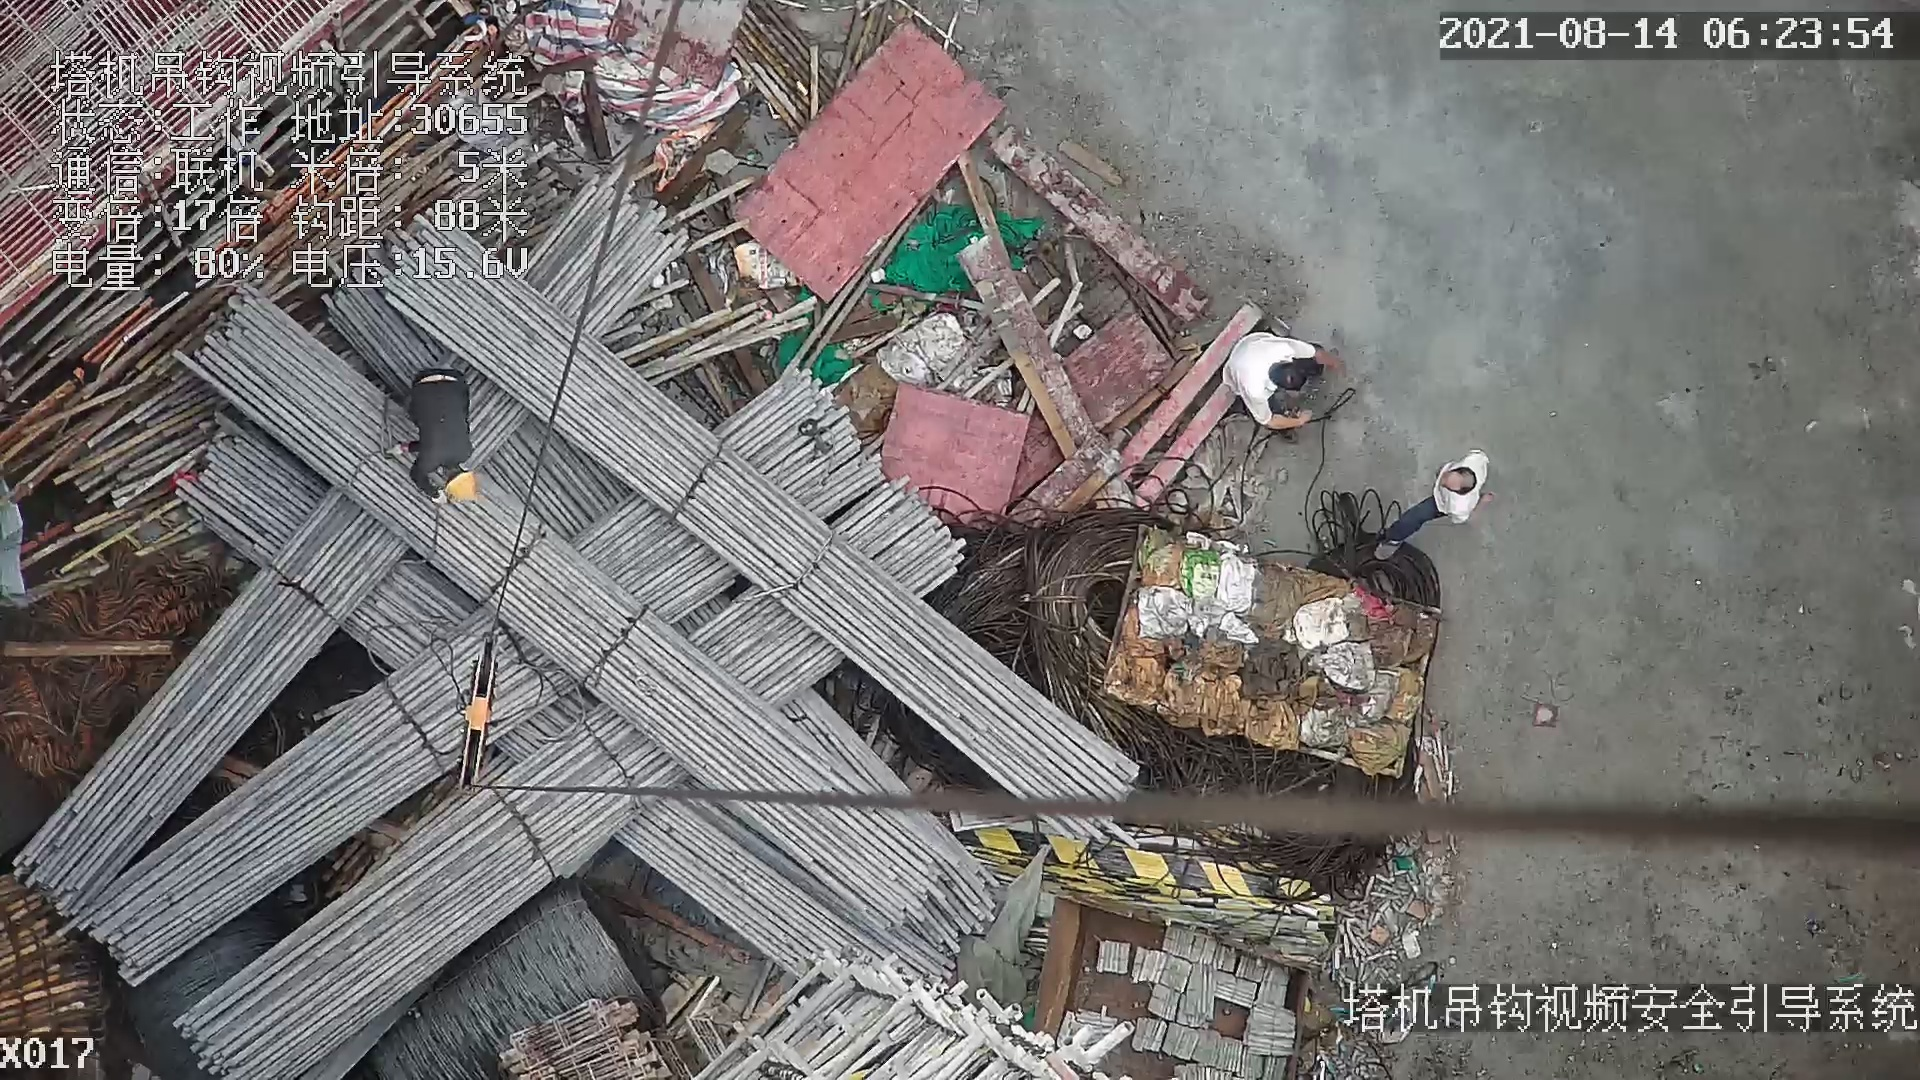helmet: (446, 471, 476, 502)
hook: (456, 630, 496, 800)
person: (1372, 445, 1492, 564), (1218, 330, 1350, 436), (394, 369, 488, 519)
rebar: (185, 292, 935, 934), (402, 280, 1133, 845), (75, 607, 577, 993), (174, 704, 689, 1080), (13, 489, 406, 923)
wood: (1, 873, 108, 1034)
